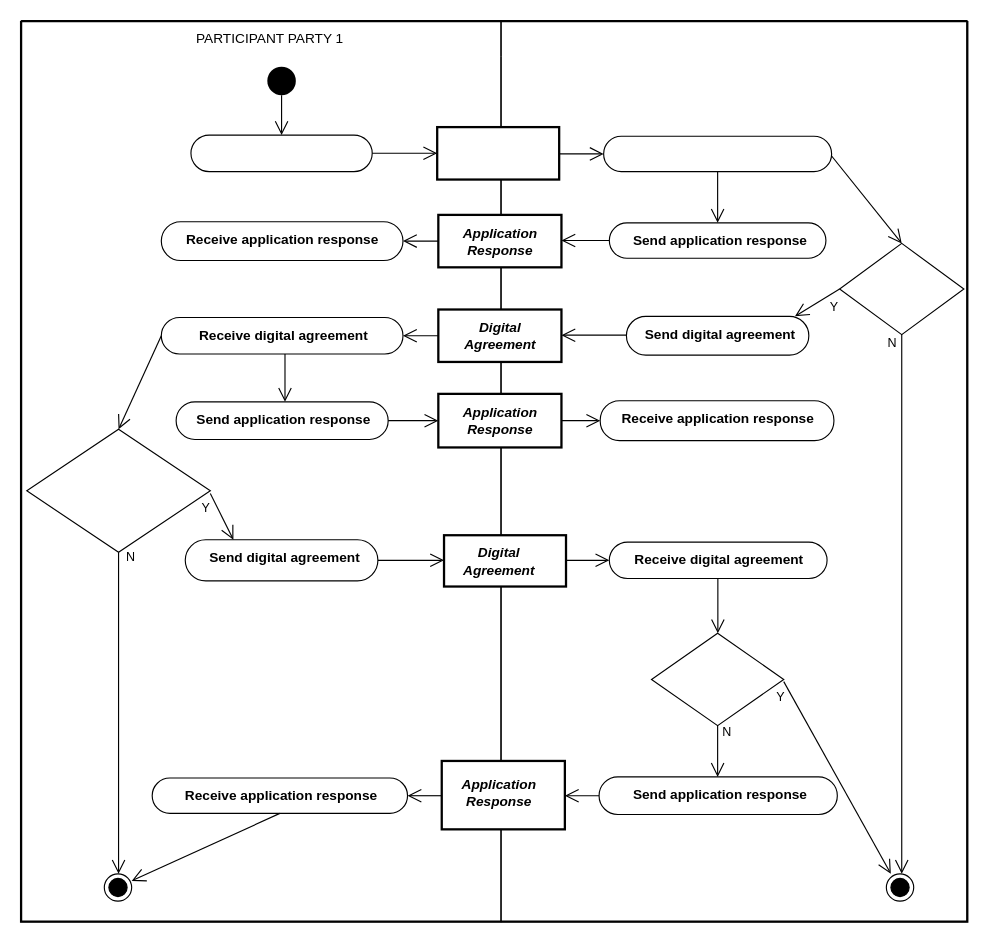
This 987x942 diagram has some shape labels left out. Each missing label, with the box of its shape:
Digital Capabilities: (435, 125, 560, 180)
Match digital capabilities: (838, 242, 964, 335)
PARTICIPANT PARTY 2: (500, 20, 967, 922)
Receive digital capabilities: (602, 135, 832, 172)
Reconcile digital agreement with own digital capabilities: (26, 428, 210, 552)
Send digital capabilities: (190, 134, 372, 172)
Validate digital agreement: (650, 632, 784, 726)
